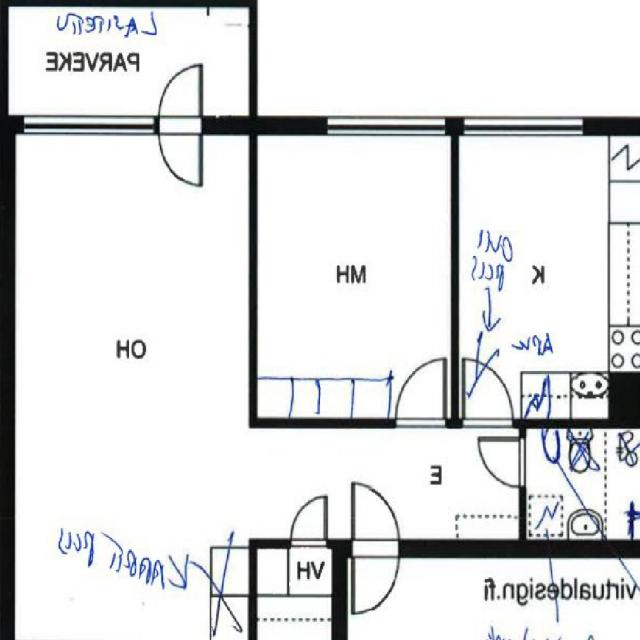door: (353, 486, 398, 560), (397, 360, 445, 428), (353, 540, 398, 612), (161, 116, 201, 184), (161, 68, 201, 136), (479, 438, 527, 486), (291, 496, 327, 548)
